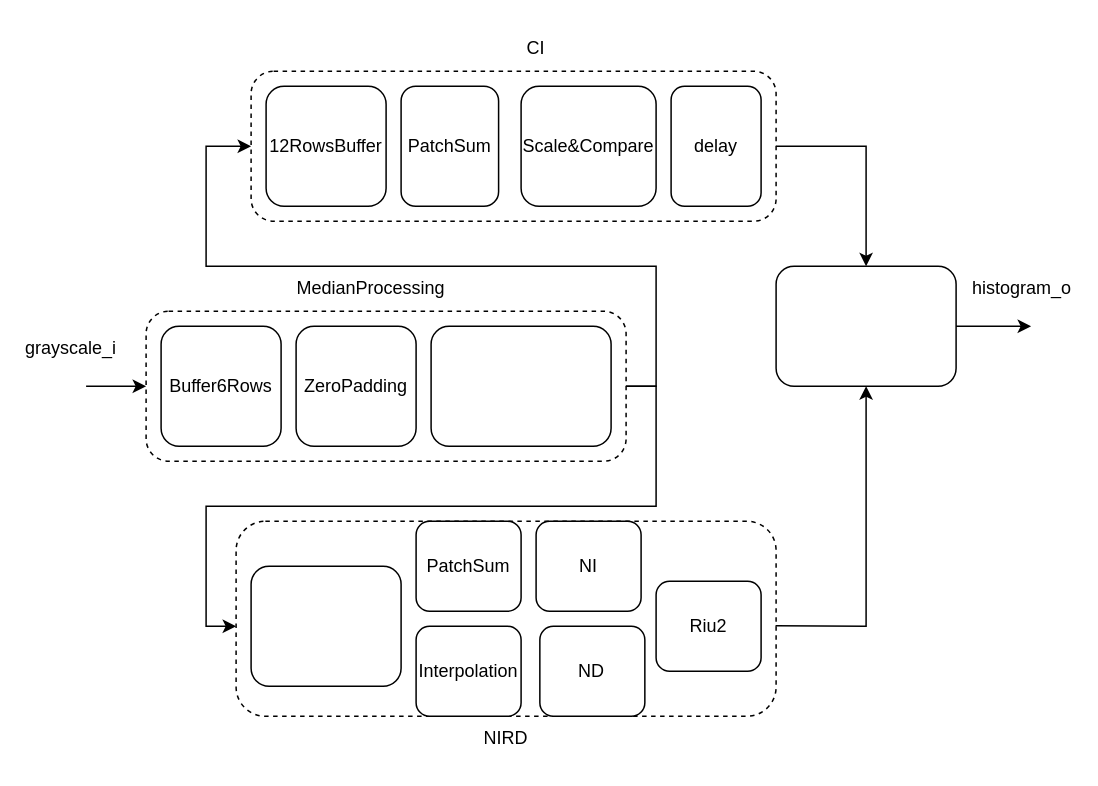
Image size: 1098x786. Some labels were removed from this diagram. Here are the shapes that lost their labels. From the top down, the centre of each, then its label:
At [865,325]: "JointHistorgram".
At [520,385]: "MedianCalculation".
At [325,625]: "(2*R)RowsBuffer".
